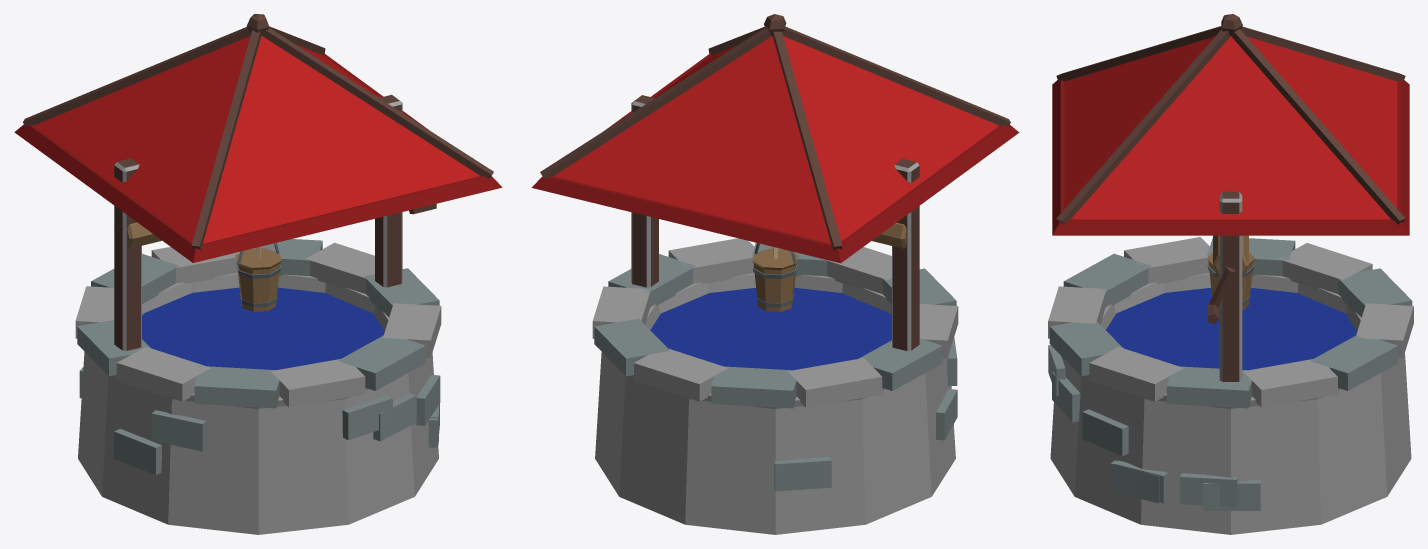
Rendered from well.glb.
The picture shows the model from 3 angles, left to right: view 1: azimuth 30°, elevation 25°; view 2: azimuth 150°, elevation 25°; view 3: azimuth 270°, elevation 25°; orthographic projection.
Parts seen in each view (by area): view 1: well-m; view 2: well-m; view 3: well-m.
Part boxes in pixels (bbox=[...]): well-m: bbox=[14, 14, 502, 534]; well-m: bbox=[531, 14, 1019, 534]; well-m: bbox=[1048, 14, 1413, 534].
Bounding box in the file's own units: 2.5 × 3.26 × 2.43.
